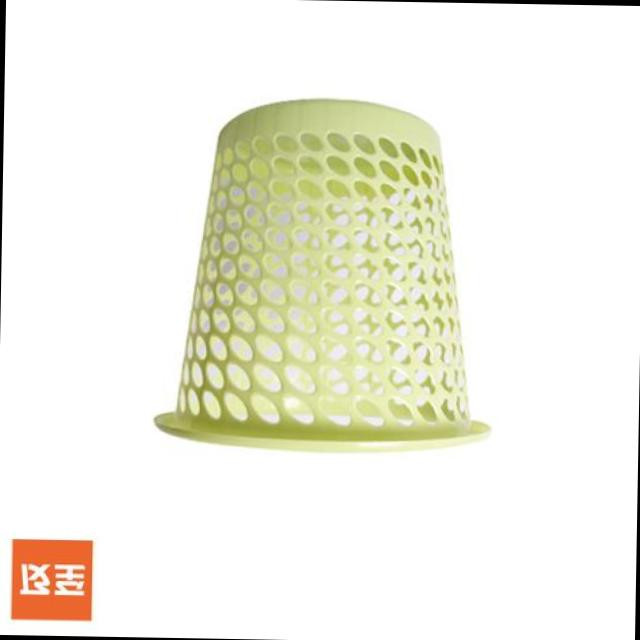dustbin: (149, 92, 503, 462)
